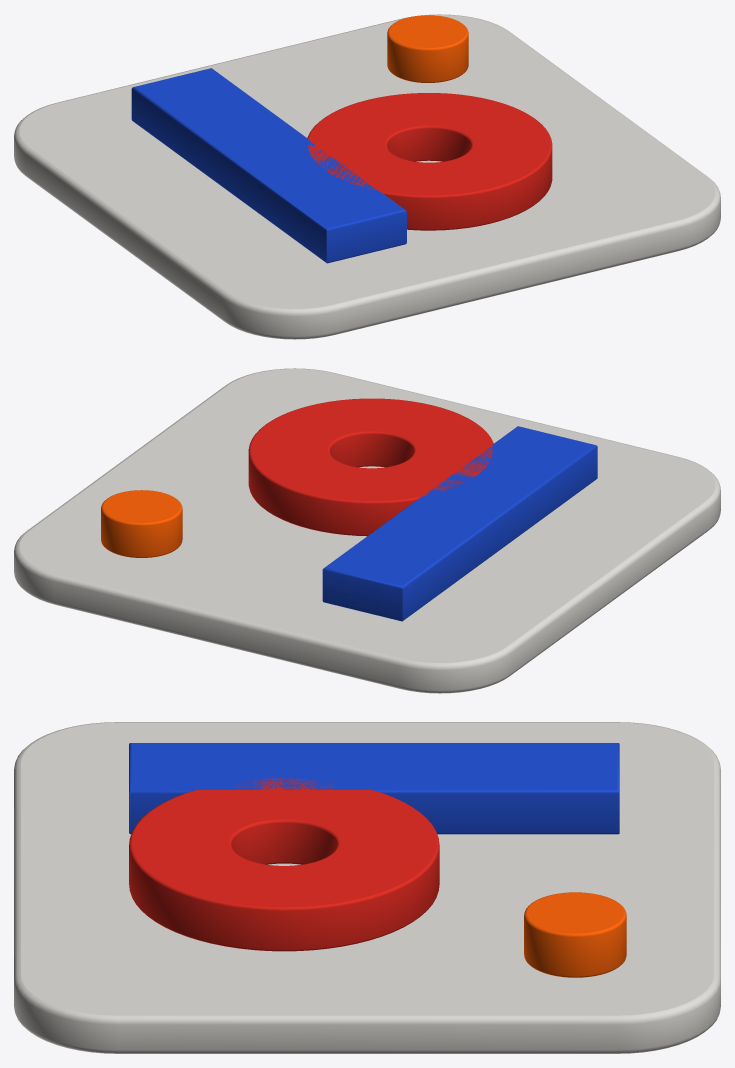
Rendered from d6-mark.glb.
3 renders of one model, top to bottom at view 1: azimuth 30°, elevation 25°; view 2: azimuth 150°, elevation 25°; view 3: azimuth 270°, elevation 25°, orthographic. The views are drawn at different scales.
Parts seen in each view (by area): view 1: plate, g.001, g, g.002; view 2: plate, g.001, g, g.002; view 3: plate, g.001, g, g.002.
Boxes of the visible parts, x1,y1,x2,y2 form: plate: [14, 14, 720, 339]; g.001: [307, 93, 552, 230]; g: [131, 68, 406, 263]; g.002: [387, 15, 468, 82]; plate: [14, 368, 720, 693]; g.001: [248, 398, 493, 536]; g: [322, 426, 597, 621]; g.002: [101, 490, 182, 557]; plate: [14, 722, 720, 1053]; g.001: [129, 778, 439, 951]; g: [129, 743, 619, 834]; g.002: [524, 892, 626, 977].
Bounding box in the file's own units: 2.04 × 0.26 × 2.04.
